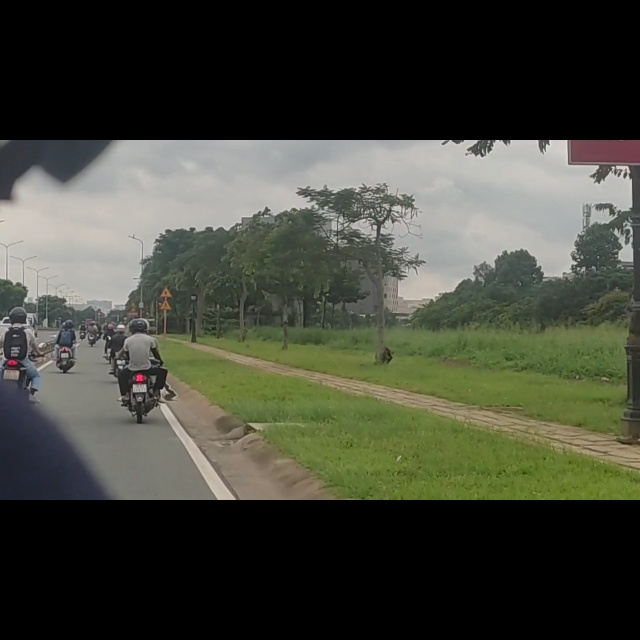bien_nguy_hiem: (159, 260, 173, 280), (159, 283, 172, 303)
